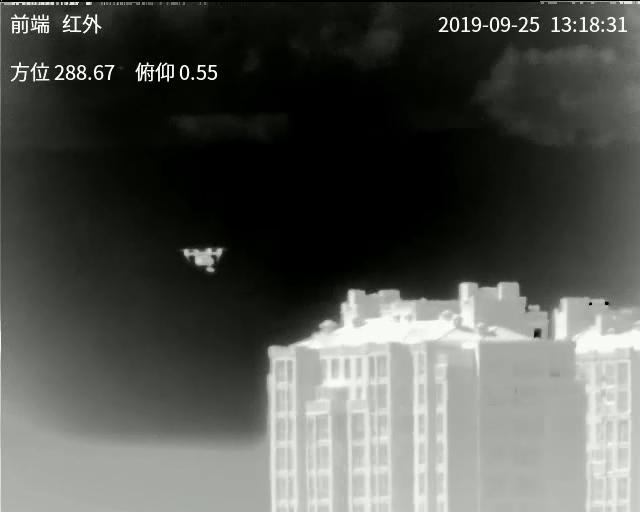uav: (182, 245, 223, 272)
